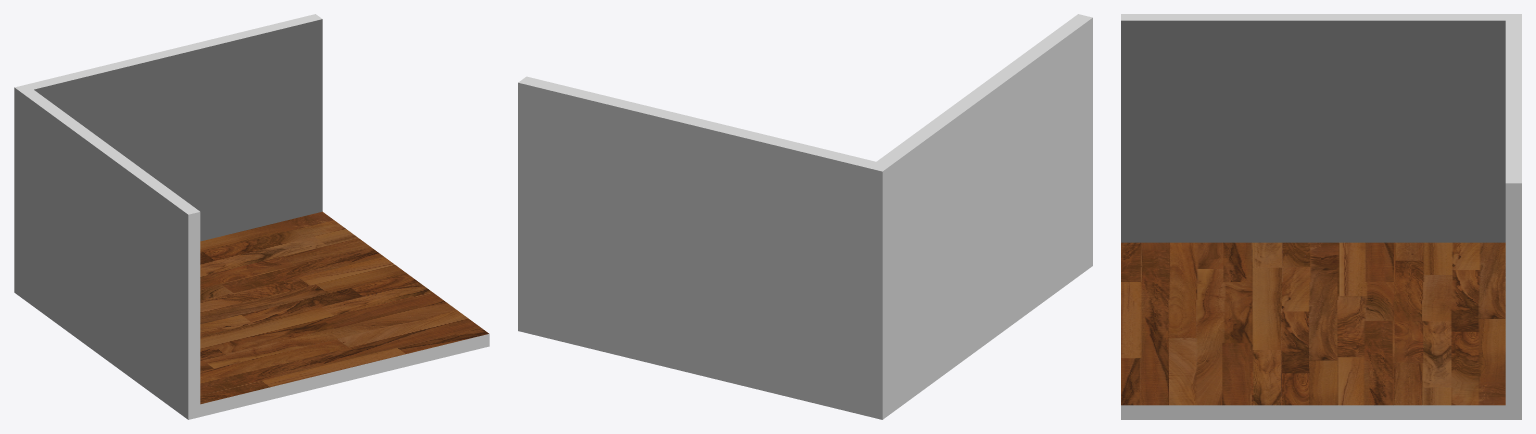
File: main_room.glb
3 views of the same model, side by side, from view 1: azimuth 30°, elevation 25°; view 2: azimuth 150°, elevation 25°; view 3: azimuth 270°, elevation 25° (orthographic). The views are drawn at different scales.
Parts seen in each view (by area): view 1: Cube; view 2: Cube; view 3: Cube.
Part boxes in pixels (box(x1,y1,x2,y2)): Cube: box(14, 14, 489, 419); Cube: box(518, 14, 1092, 419); Cube: box(1121, 14, 1521, 419).
Bounding box in the file's own units: 8.66 × 5.64 × 8.66.
3 materials, 1 textured.
